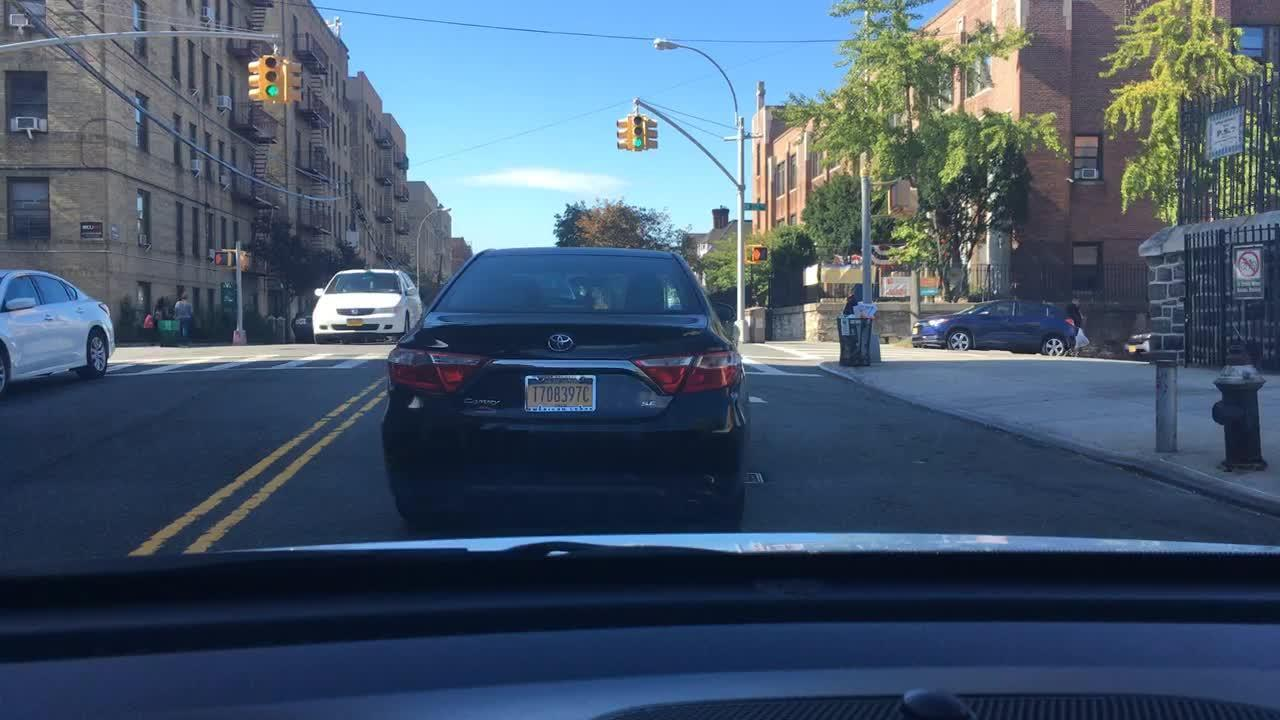Toyota: (541, 328, 581, 359)
